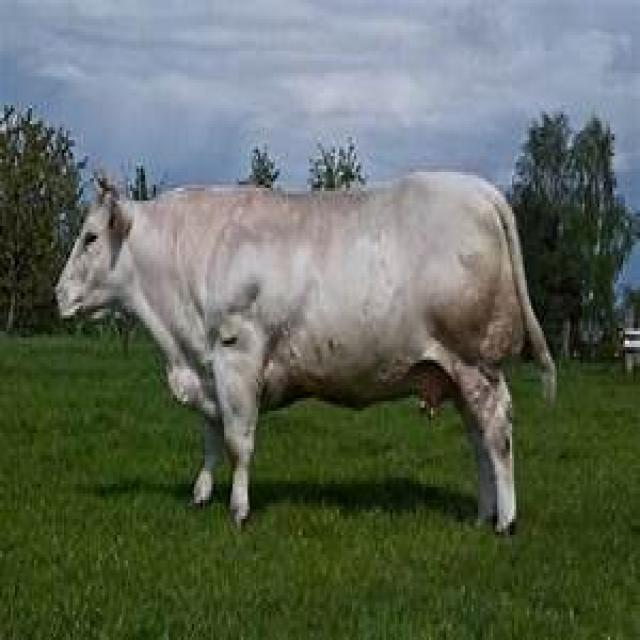animal: (53, 165, 557, 535)
